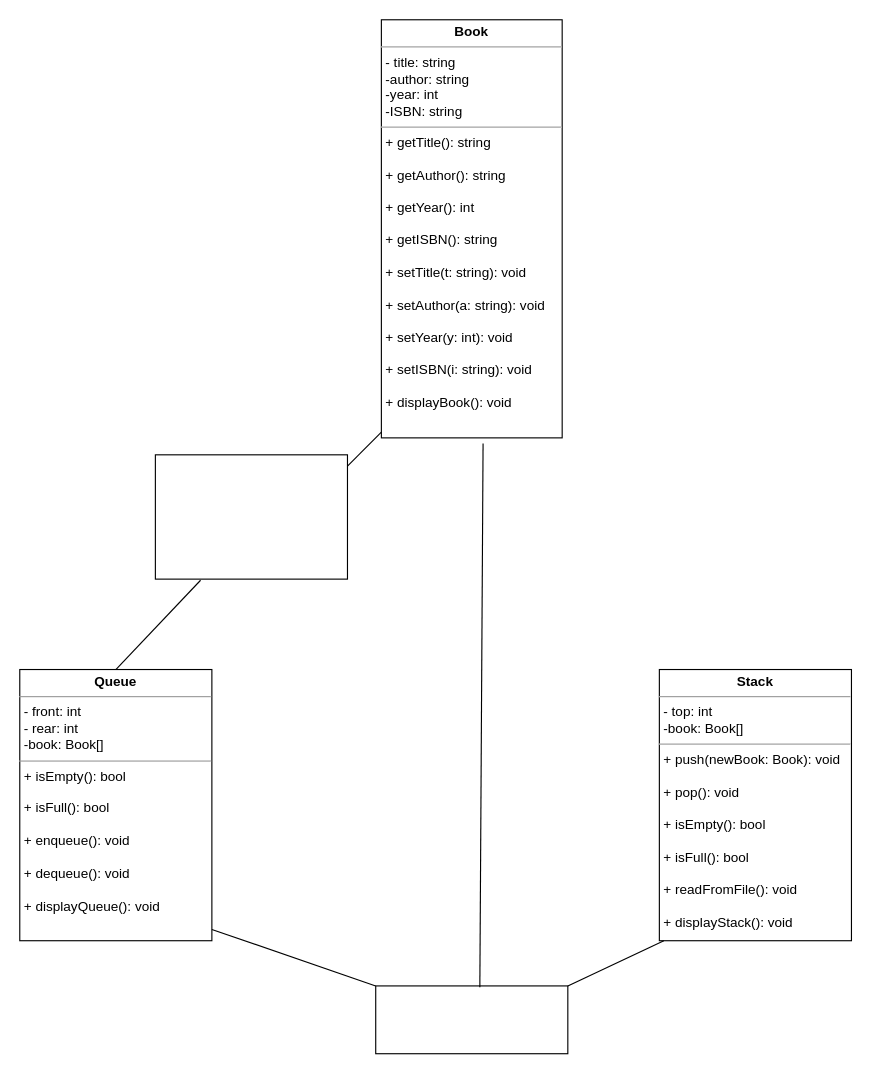
The diagram is 871 pixels wide and 1074 high, and some of its shapes have lost their labels. Each missing label, with the centre of its shape:
Node - data: Book - next Node + Node(b: Book): pixel 250 516
NodeBookSystem - main(): int: pixel 471 1019
